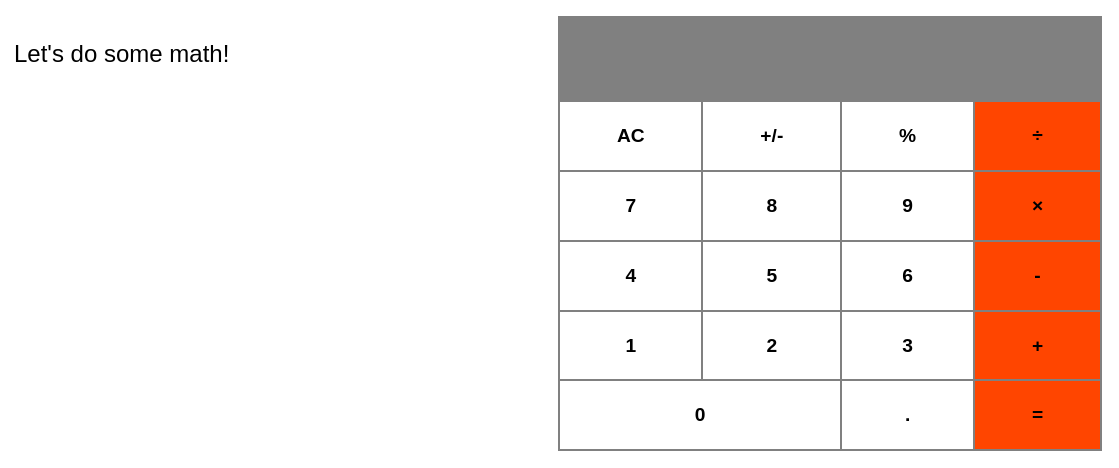
Test case: Calculator Component › test performing calculations
Step 1. Click the button "5" → (772, 276), box [702,241,841,311]
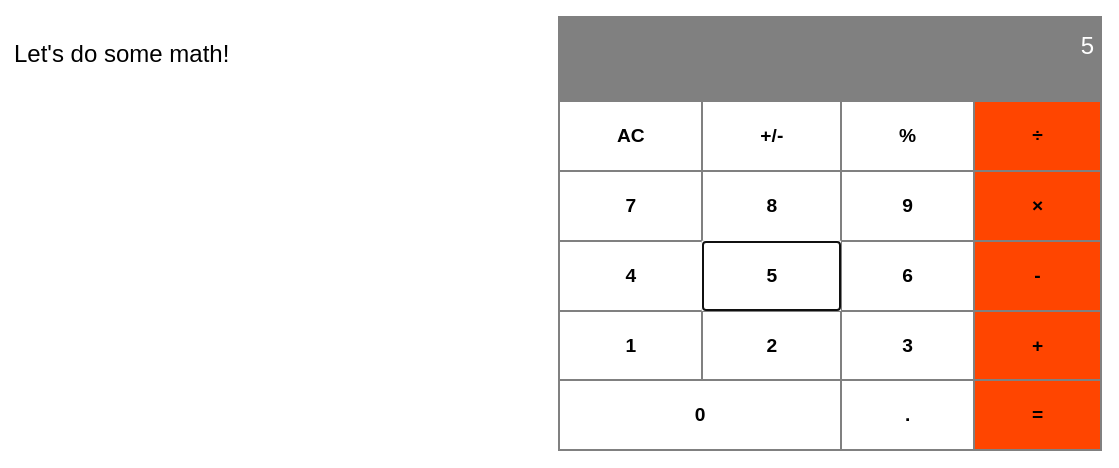
Step 2. Click the button "+" → (1038, 346), box [974,311,1101,380]
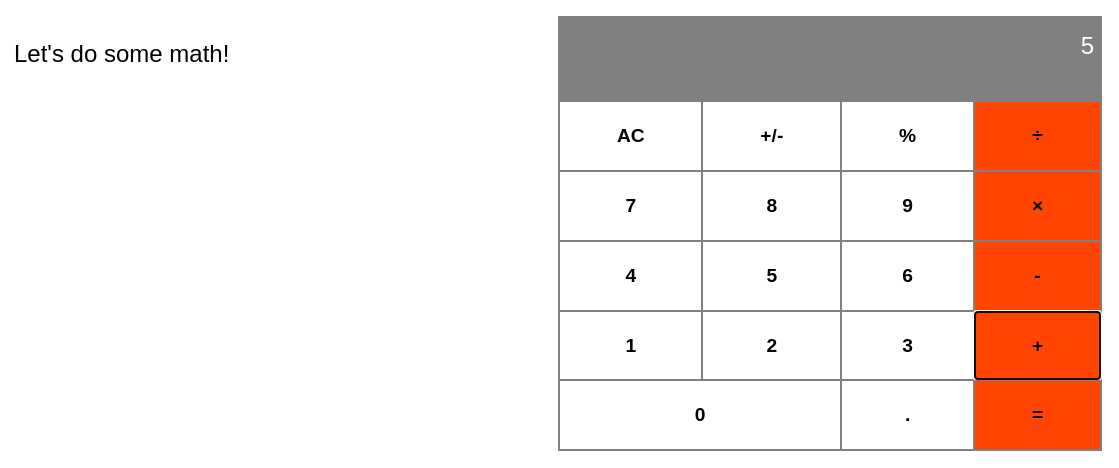
Step 3. Click the button "8" → (772, 206), box [702,171,841,241]
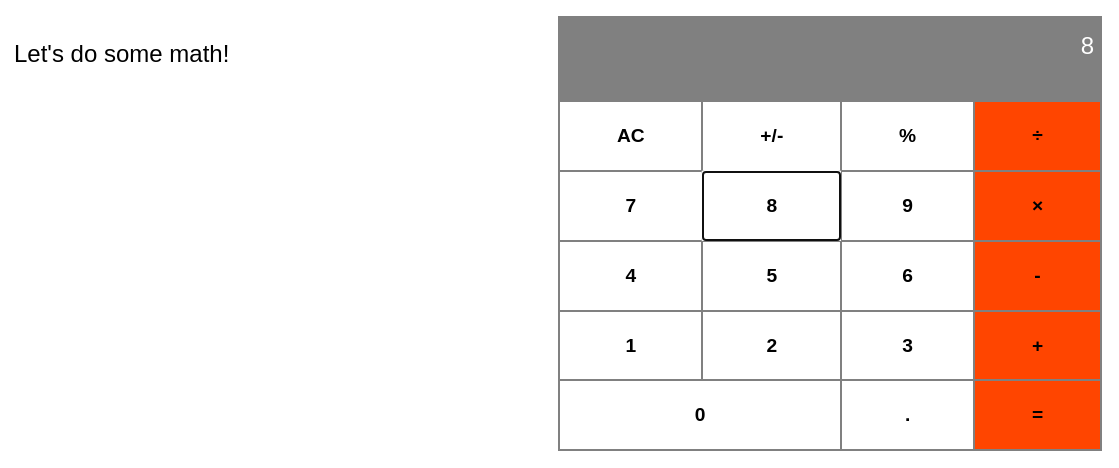
Step 4. Click the button "=" → (1038, 415), box [974,380,1101,450]
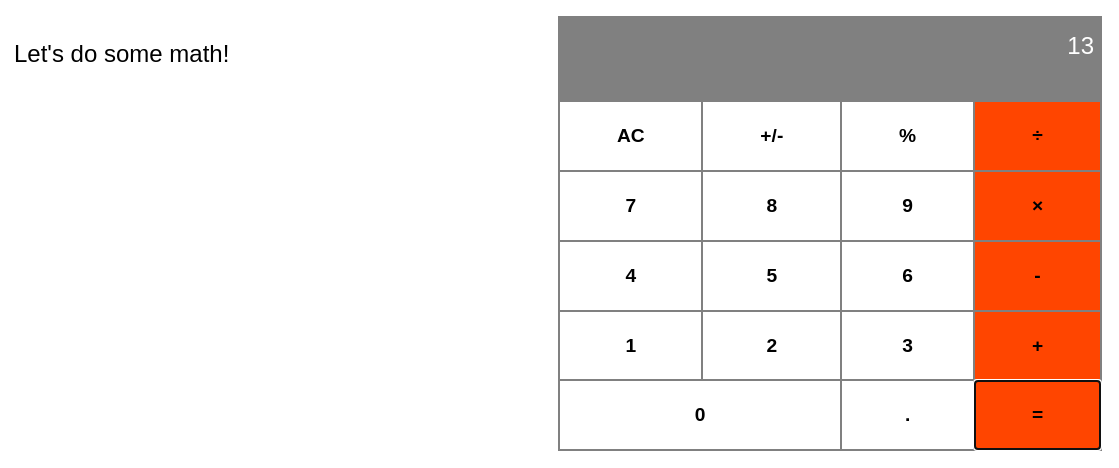
expect the text "13" is shown: met, box [558,16,1102,100]
